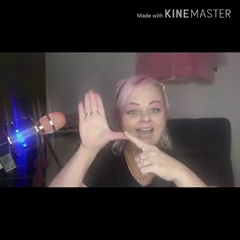A: (76, 88, 175, 178)
